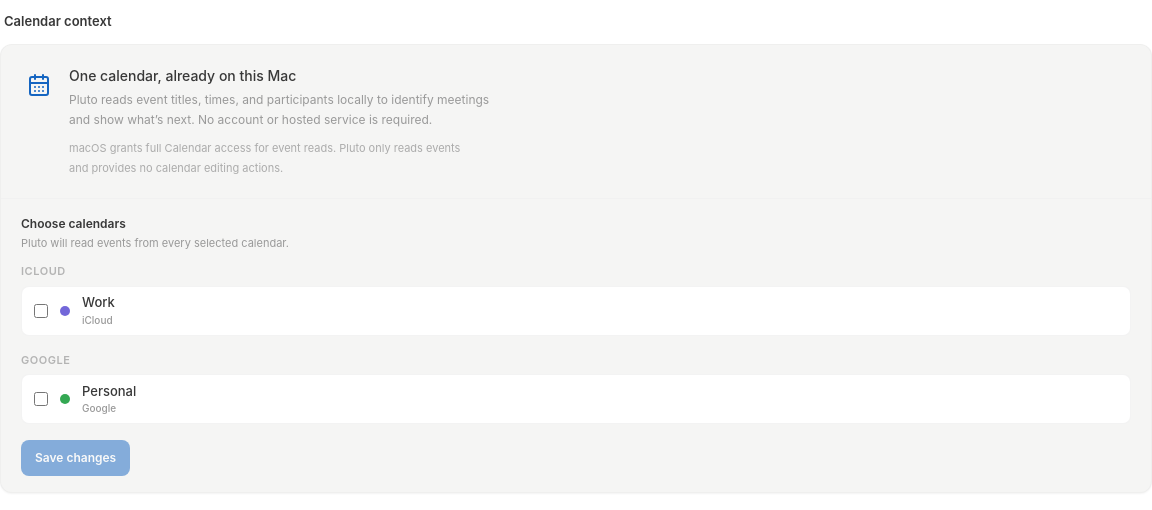
CalendarSettings › provides grouped multi-selection with staged changes and Save changes
This screenshot has width=1152, height=510.
Later steps or results of the test are not shown.
Expected: the button with aria-label "Save changes" is disabled, [21, 440, 130, 476]
Check both
Click the checkbox labelled "Work iCloud" at point(41, 310), box [34, 304, 48, 318]
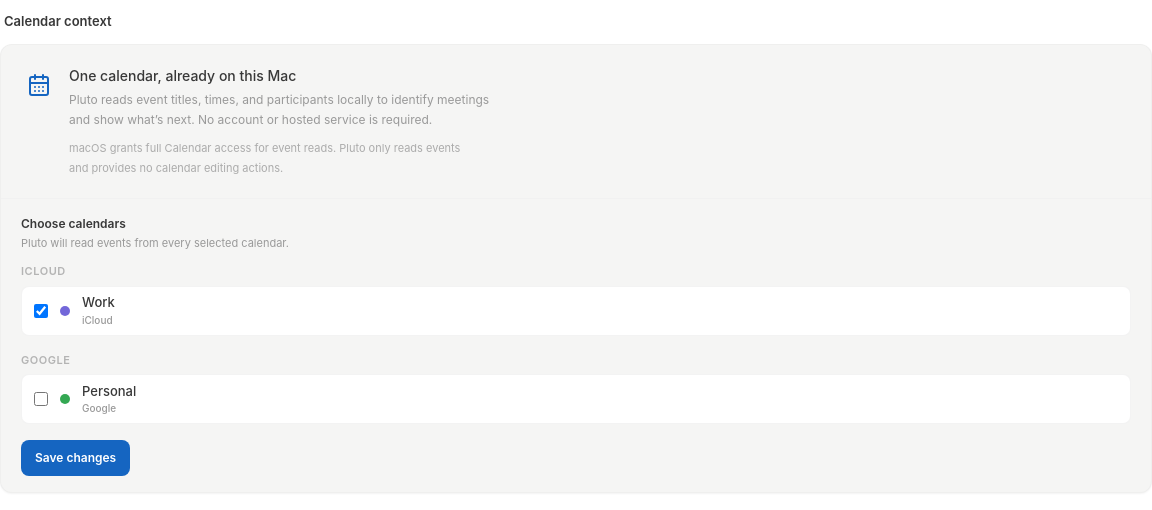
Expected: the button with aria-label "Save changes" is enabled, [21, 440, 130, 476]
